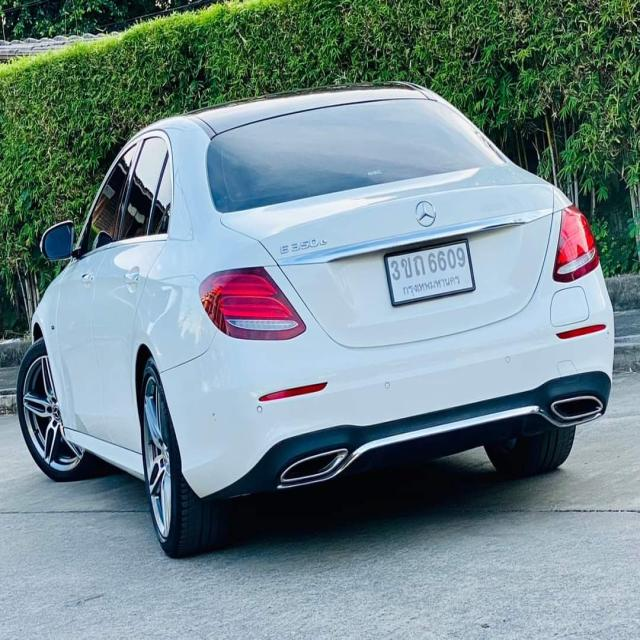license_plate: (383, 238, 477, 306)
